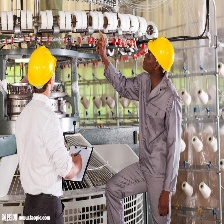helmet: (26, 45, 58, 91), (146, 37, 177, 75)
no-vest: (19, 88, 63, 199), (136, 75, 178, 185)
person: (112, 34, 183, 224), (14, 43, 69, 224)
